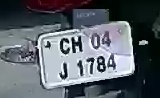0: (90, 32, 100, 50)
1: (75, 60, 86, 78)
4: (100, 31, 112, 47), (107, 53, 117, 71)
7: (86, 56, 95, 75)
8: (96, 55, 107, 74)
C: (58, 37, 71, 56)
H: (70, 36, 84, 54)
J: (59, 62, 70, 82)
